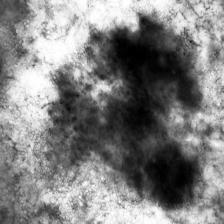Benign Marking or Mole: (47, 17, 201, 205)
